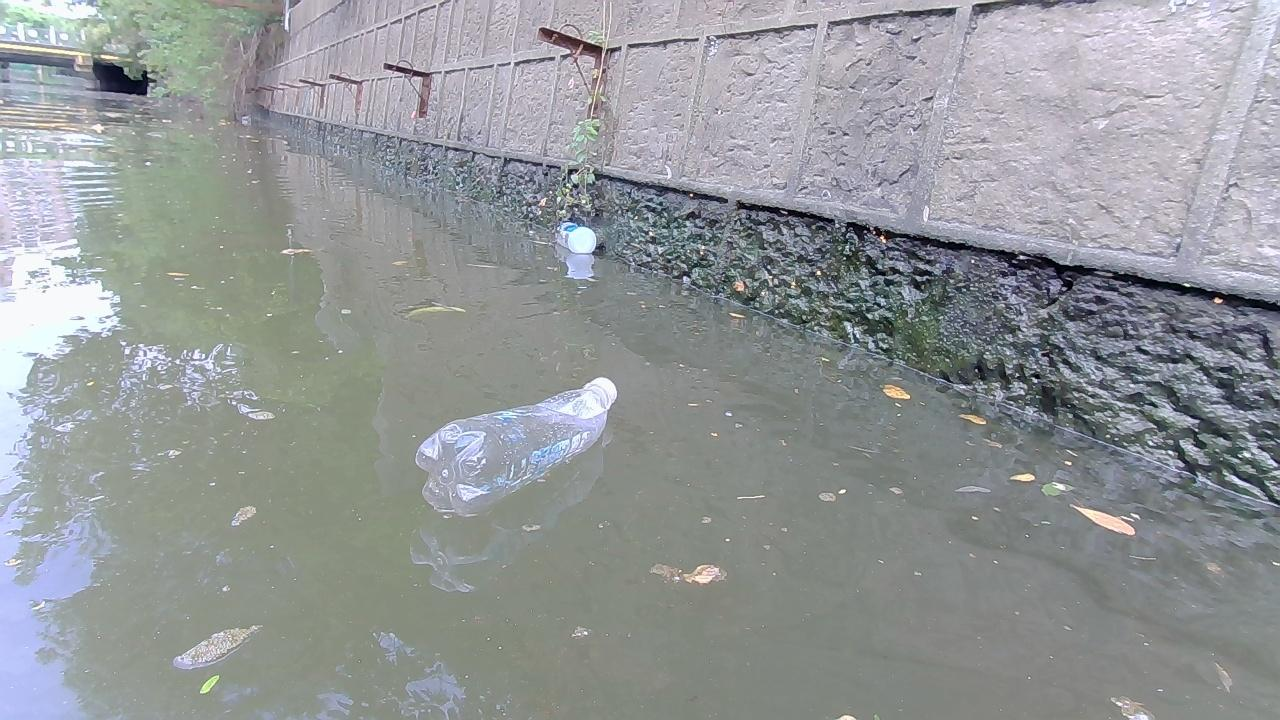bottle: (414, 376, 621, 512), (557, 219, 597, 251)
